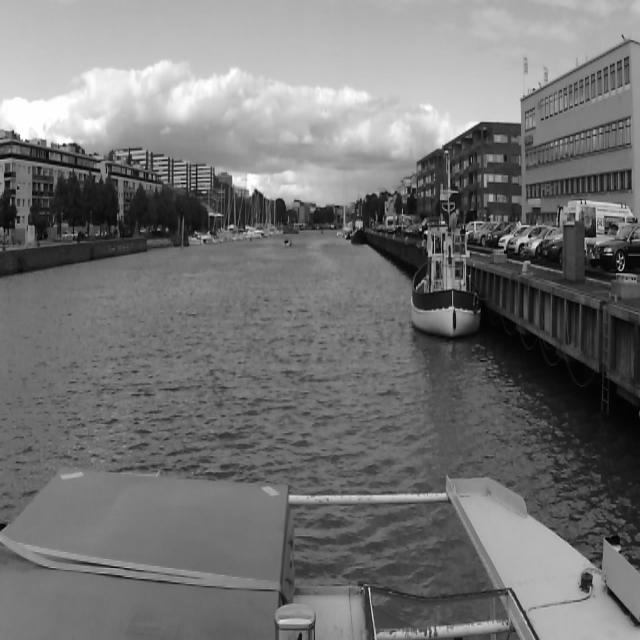ship: (406, 225, 484, 336), (282, 236, 289, 246)
